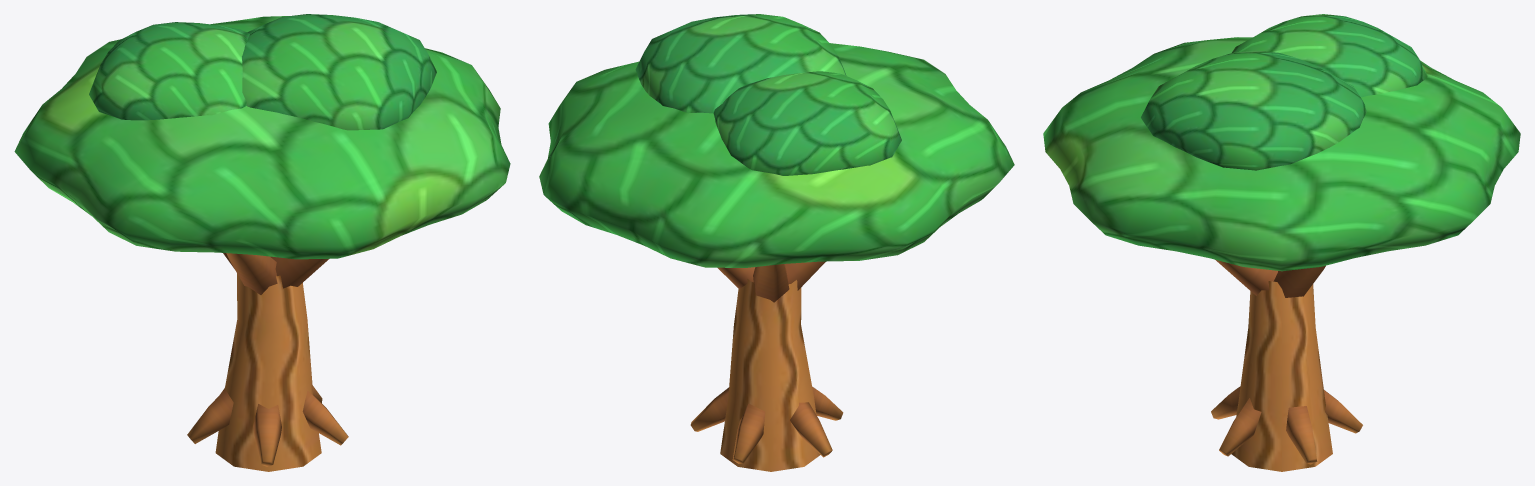
The model's file is jungle_tree_1.glb.
3 views of the same model, side by side, from view 1: azimuth 30°, elevation 25°; view 2: azimuth 150°, elevation 25°; view 3: azimuth 270°, elevation 25° (orthographic). The views are drawn at different scales.
Parts seen in each view (by area): view 1: jungle_tree_1; view 2: jungle_tree_1; view 3: jungle_tree_1.
Part boxes in pixels (x1,y1,x2,y2): jungle_tree_1: (14,14,510,471); jungle_tree_1: (539,14,1014,471); jungle_tree_1: (1043,14,1520,471).
Size of the model in its own units: 9.13 by 8.5 by 9.21.
Materials: 2 (2 with a texture image).
